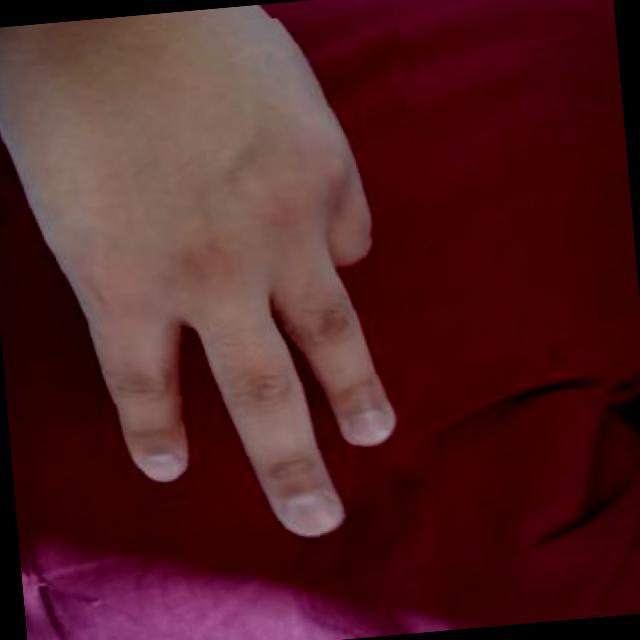M: (0, 7, 444, 587)
